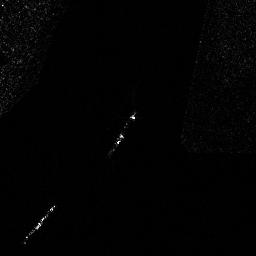ship: (22, 204, 54, 245), (111, 112, 135, 151)
